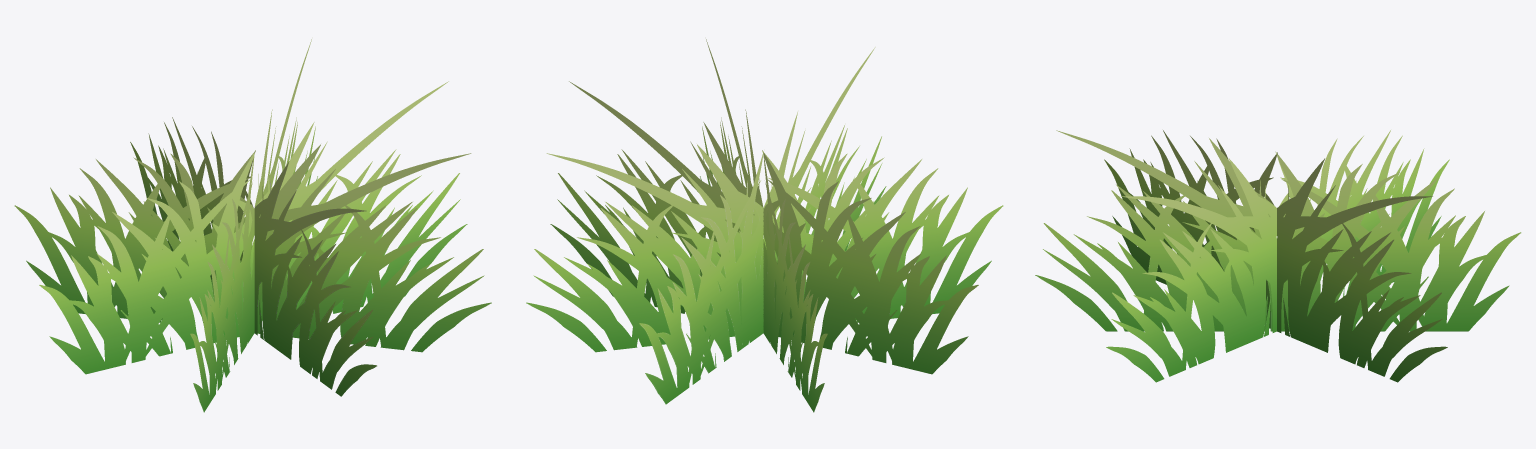
File: MOD_Grass.fbx
3 renders of one model, left to right at view 1: azimuth 30°, elevation 25°; view 2: azimuth 150°, elevation 25°; view 3: azimuth 270°, elevation 25°, orthographic.
Parts seen in each view (by area): view 1: pPlane10; view 2: pPlane10; view 3: pPlane10.
Boxes of the visible parts, bbox=[...] form: pPlane10: bbox=[14, 39, 491, 412]; pPlane10: bbox=[526, 39, 1003, 412]; pPlane10: bbox=[1035, 130, 1521, 382].
Bounding box in the file's own units: 141 × 68.11 × 141.
